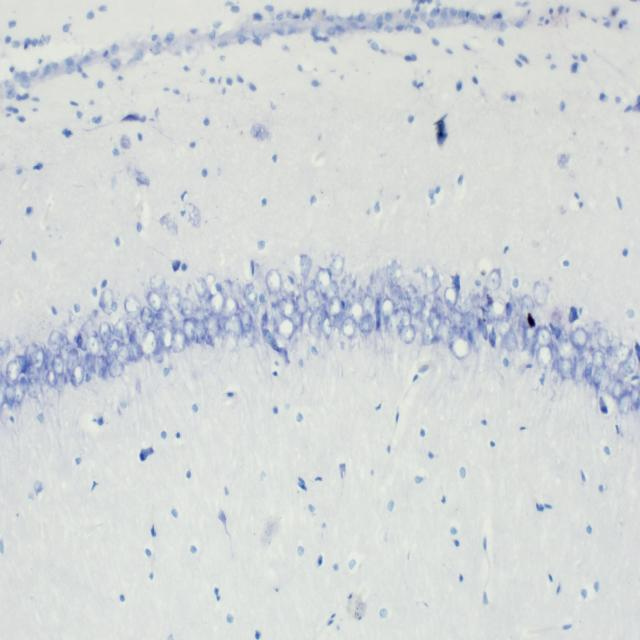neuron: (422, 265, 440, 295), (450, 335, 471, 359), (202, 313, 220, 340), (347, 299, 365, 325), (594, 365, 612, 391), (224, 314, 244, 337), (266, 268, 282, 296), (125, 293, 142, 319), (533, 280, 550, 306), (156, 308, 178, 328), (616, 355, 636, 377), (28, 346, 46, 370), (142, 329, 157, 357), (394, 306, 413, 328), (569, 327, 588, 349), (304, 287, 320, 313), (316, 267, 332, 293), (210, 291, 226, 316), (222, 329, 238, 354), (278, 316, 294, 341), (537, 345, 553, 370), (345, 285, 363, 307), (484, 268, 502, 290), (556, 338, 574, 360), (100, 287, 114, 315), (49, 329, 66, 352), (113, 317, 130, 340), (358, 313, 375, 336), (595, 327, 612, 350), (308, 312, 323, 338), (495, 314, 511, 338), (86, 331, 101, 356), (290, 307, 304, 333), (6, 358, 21, 382), (342, 315, 357, 339), (558, 358, 575, 379), (27, 377, 43, 399), (536, 325, 552, 347), (98, 321, 112, 346), (160, 325, 174, 350), (172, 328, 186, 353), (522, 294, 536, 319), (366, 282, 385, 300), (108, 358, 125, 378), (182, 318, 195, 344), (71, 364, 85, 388), (95, 354, 109, 378), (241, 324, 255, 348), (321, 310, 333, 338), (574, 358, 588, 382), (361, 294, 376, 316), (523, 326, 538, 348), (195, 276, 208, 301), (116, 343, 130, 366), (244, 283, 258, 306), (326, 280, 340, 303), (428, 307, 442, 330), (400, 324, 416, 344), (147, 290, 162, 311), (66, 348, 79, 372), (76, 328, 89, 352), (504, 328, 517, 352), (141, 305, 155, 327), (238, 310, 252, 332), (381, 298, 395, 320), (403, 284, 419, 303), (13, 382, 25, 407), (387, 314, 399, 339), (476, 316, 488, 341), (509, 293, 521, 318), (329, 296, 343, 317), (444, 286, 458, 307), (333, 310, 345, 334), (615, 344, 631, 362), (195, 319, 206, 345), (341, 274, 356, 293), (128, 342, 142, 362), (282, 278, 296, 298), (422, 325, 436, 345), (618, 394, 632, 414), (4, 384, 16, 407), (51, 354, 64, 375), (60, 341, 74, 360), (105, 338, 119, 357), (467, 333, 481, 352), (170, 287, 182, 309), (300, 254, 311, 278), (332, 254, 344, 276), (482, 302, 494, 324), (224, 298, 240, 314), (180, 298, 194, 316), (296, 295, 308, 316), (630, 386, 640, 411), (0, 339, 11, 361), (54, 374, 66, 394), (284, 297, 296, 317), (463, 312, 475, 332), (85, 352, 96, 373), (469, 293, 481, 312), (229, 280, 242, 297), (592, 350, 605, 367), (17, 372, 28, 392), (392, 284, 402, 306), (515, 333, 525, 355), (44, 349, 56, 367), (411, 297, 423, 315), (451, 309, 464, 325), (613, 378, 623, 398), (194, 306, 206, 322), (46, 369, 56, 388), (511, 315, 520, 335), (433, 296, 444, 312), (606, 379, 615, 395), (585, 362, 592, 381)
